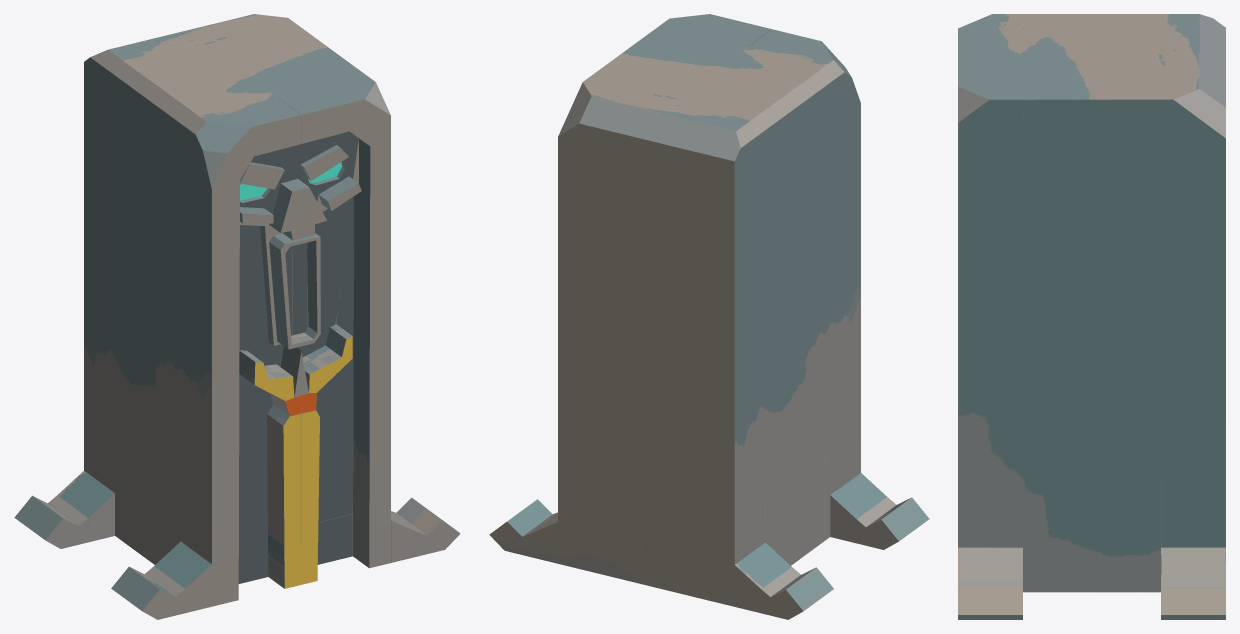
Rendered from spirit stone.fbx.
3 views of the same model, side by side, from view 1: azimuth 30°, elevation 25°; view 2: azimuth 150°, elevation 25°; view 3: azimuth 270°, elevation 25° (orthographic). The views are drawn at different scales.
Visible parts, largest first — view 1: SPIRIT STONE; view 2: SPIRIT STONE; view 3: SPIRIT STONE.
Boxes of the visible parts, bbox=[...] form: SPIRIT STONE: bbox=[14, 14, 460, 619]; SPIRIT STONE: bbox=[489, 14, 929, 619]; SPIRIT STONE: bbox=[958, 14, 1225, 619].
Size of the model in its own units: 239 by 337 by 166.
Materials: 1 (1 with a texture image).
